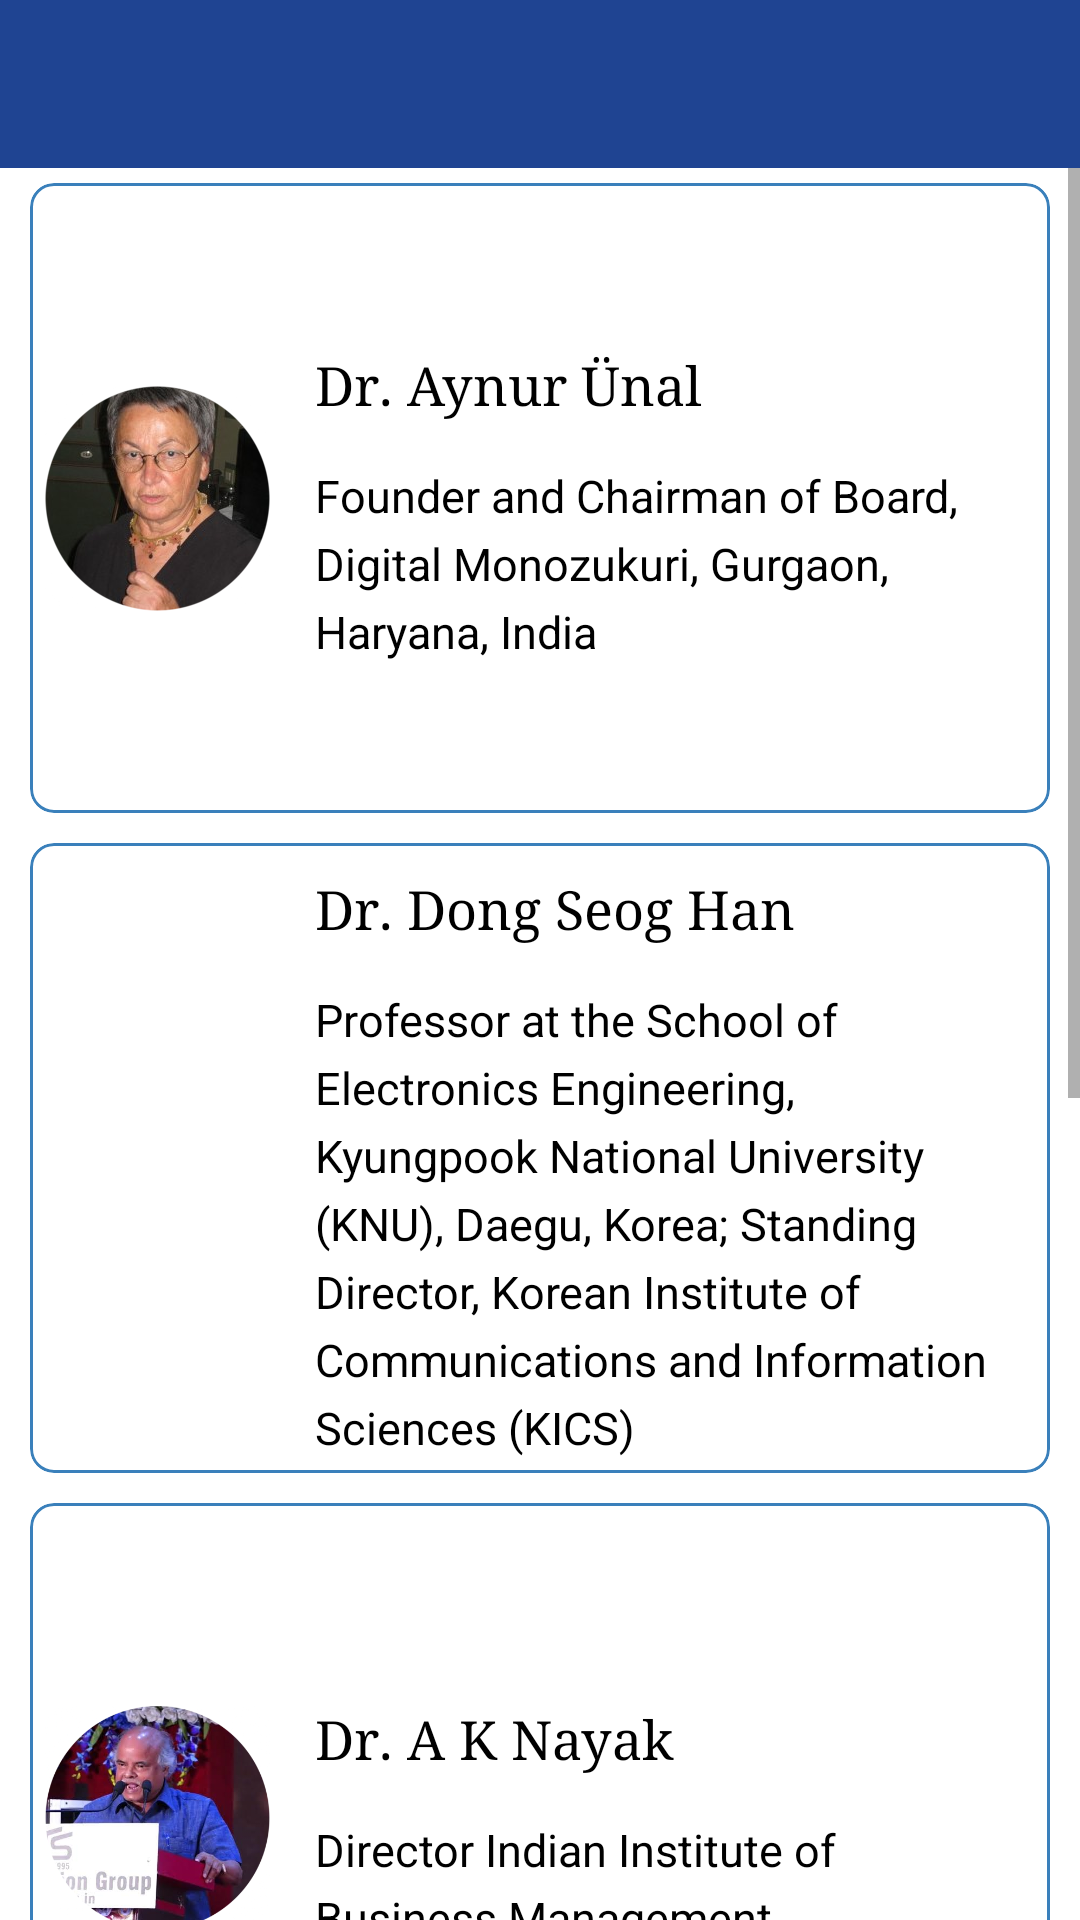

Where to tap for icons on this 1080px×1920px app screen, as point (x, y):
speaker one: point (157, 498)
